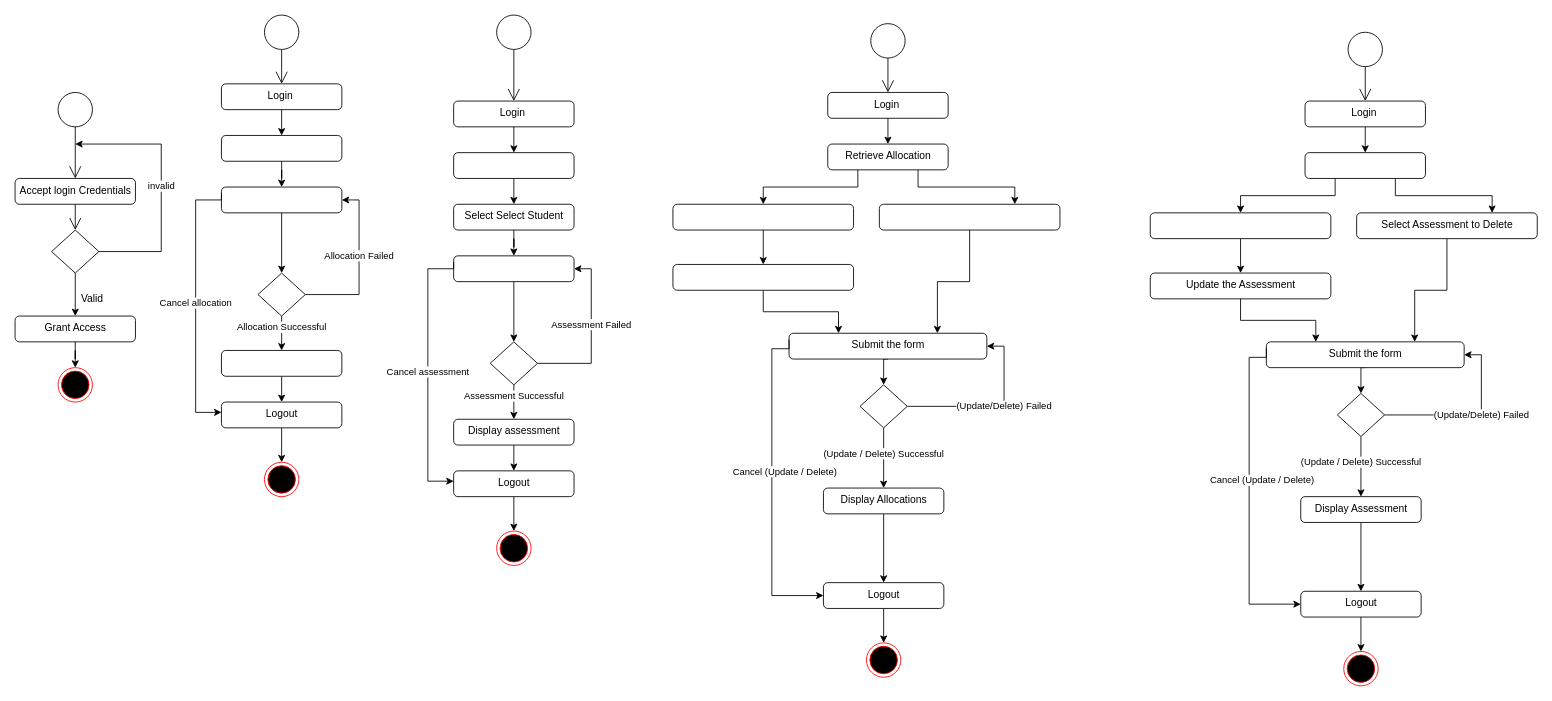
The diagram is 1552 pixels wide and 701 high, and some of its shapes have lost their labels. The centre of each missing label's shape, as x and y in pixels:
"Display result" goes at point 281,363.
"Fill and submit form" goes at point 281,199.
"Retrieve Assessment" goes at point 1364,165.
"Save to Table" goes at point 513,268.
"Select Allocate" goes at point 281,148.
"Select Allocation to Delete" goes at point 969,216.
"Select Allocation to Update" goes at point 763,216.
"Select Assessment" goes at point 513,165.
"Select Assessment to Update" goes at point 1240,225.
"Update the Allocation" goes at point 763,277.
